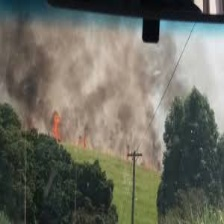smoke: (6, 13, 163, 168)
